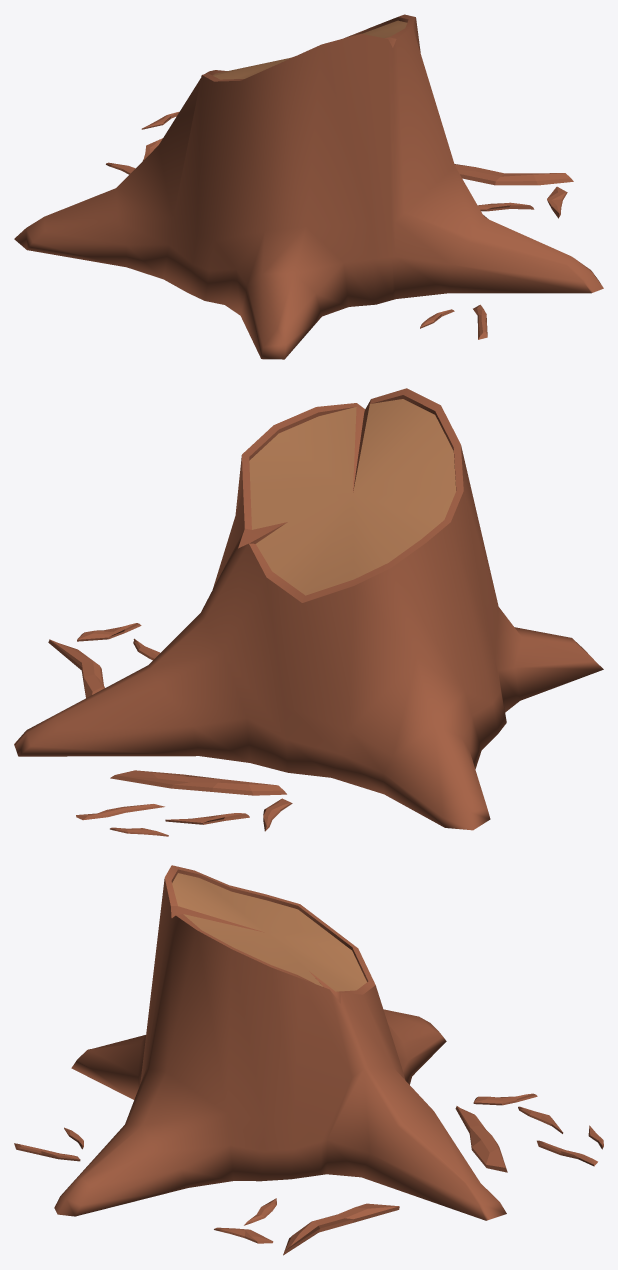
File: TreeLvl2Stump.fbx
3 views of the same model, one above another, from view 1: azimuth 30°, elevation 25°; view 2: azimuth 150°, elevation 25°; view 3: azimuth 270°, elevation 25° (orthographic). The views are drawn at different scales.
Parts seen in each view (by area): view 1: TreeLvl2Stump; view 2: TreeLvl2Stump; view 3: TreeLvl2Stump.
Boxes of the visible parts, left/top/right/bottom form: TreeLvl2Stump: left=14, top=14, right=603, bottom=359; TreeLvl2Stump: left=14, top=388, right=603, bottom=836; TreeLvl2Stump: left=14, top=865, right=603, bottom=1255.
Size of the model in its own units: 491 by 254 by 544.
